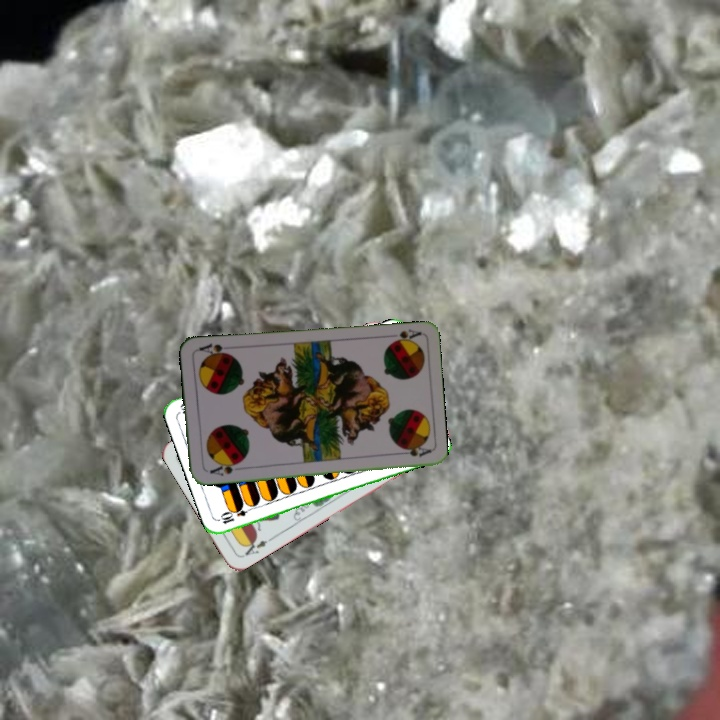E10: (217, 502, 256, 526)
EA: (239, 533, 276, 560)
SA: (383, 325, 423, 346), (206, 458, 243, 478)
